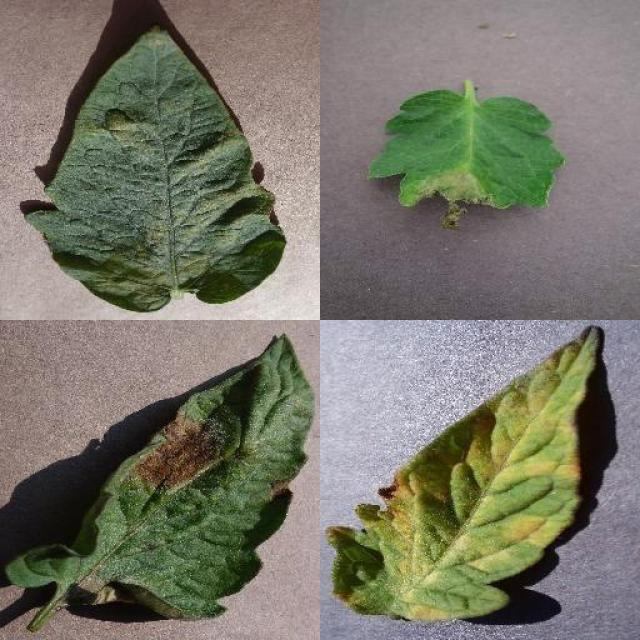Late Blight: (3, 332, 315, 622), (366, 89, 569, 234)
